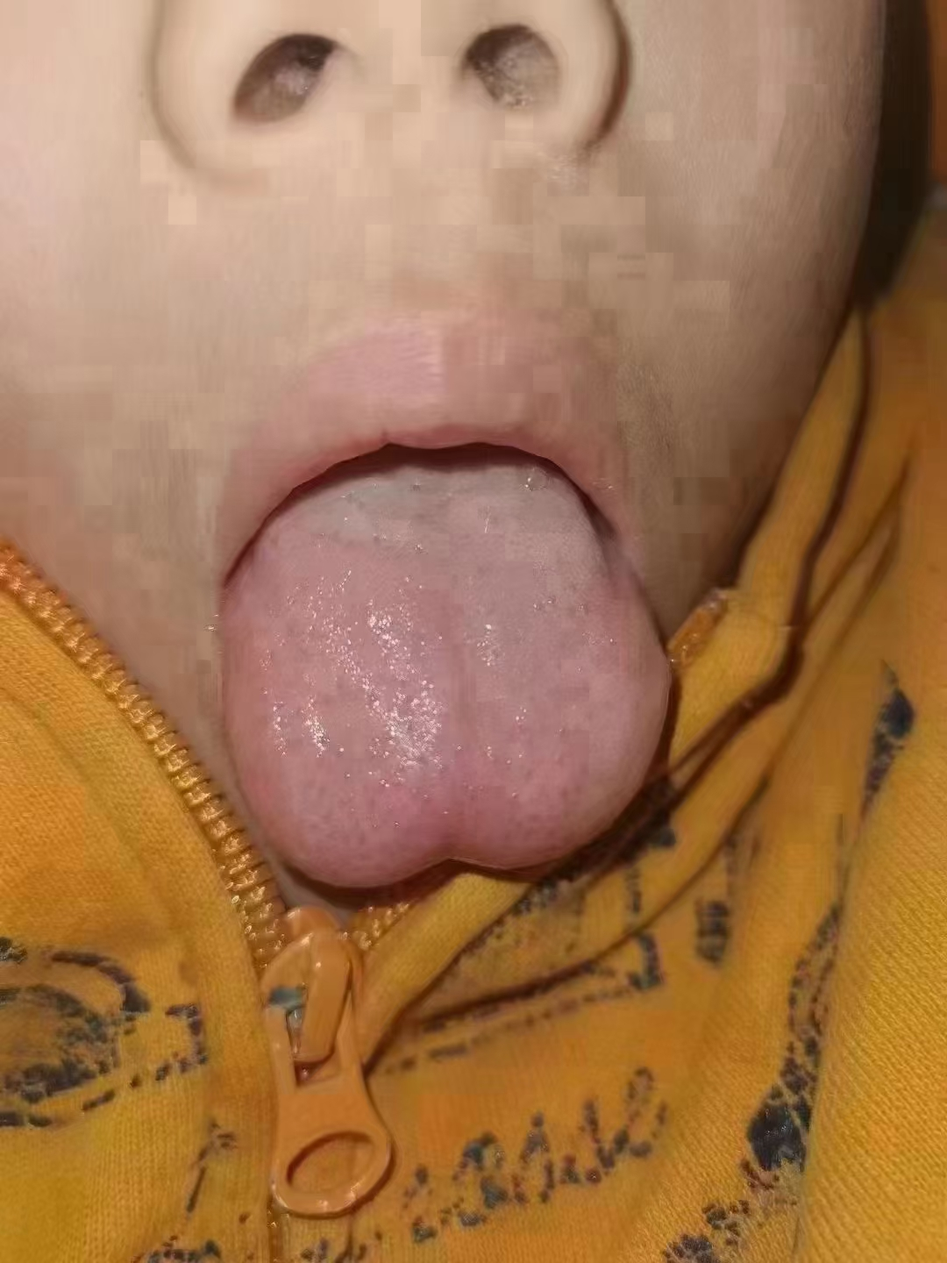baitaishe: (222, 447, 672, 886)
xinfeiao: (349, 833, 550, 888)
